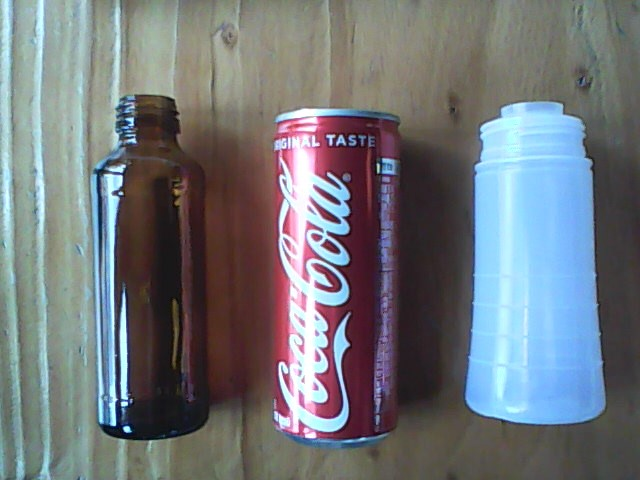Can: (267, 106, 405, 456)
Glass: (88, 84, 214, 442)
Plastic: (460, 93, 613, 429)
